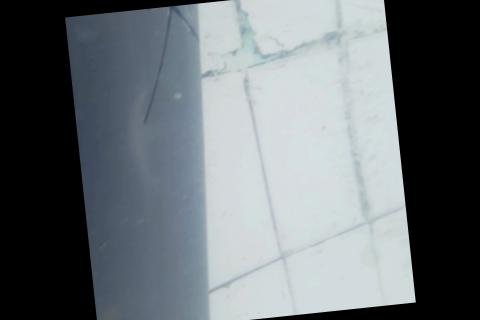keretakan: (126, 3, 208, 127)
